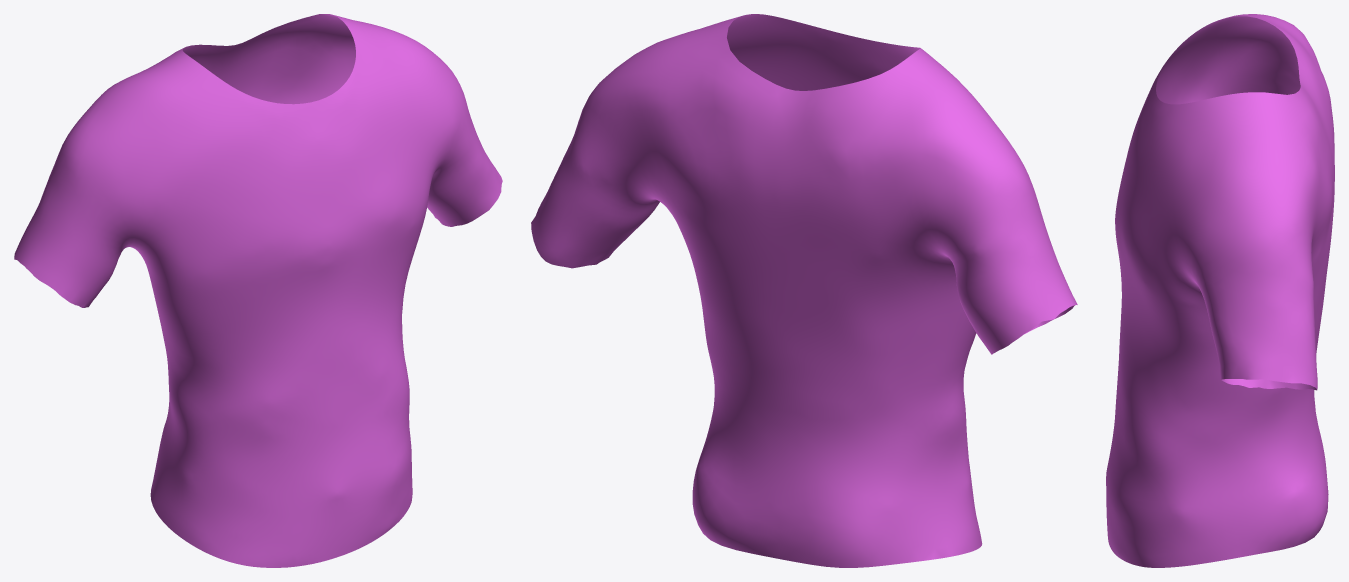
The model's file is Male-Small-Tshirt.glb.
3 views of the same model, side by side, from view 1: azimuth 30°, elevation 25°; view 2: azimuth 150°, elevation 25°; view 3: azimuth 270°, elevation 25° (orthographic). The views are drawn at different scales.
Parts seen in each view (by area): view 1: Group1.017; view 2: Group1.017; view 3: Group1.017.
Part boxes in pixels (x1,y1,x2,y2): Group1.017: (14,14,502,567); Group1.017: (531,14,1077,567); Group1.017: (1106,14,1334,567).
Bounding box in the file's own units: 1.22 × 1.17 × 0.5018.
